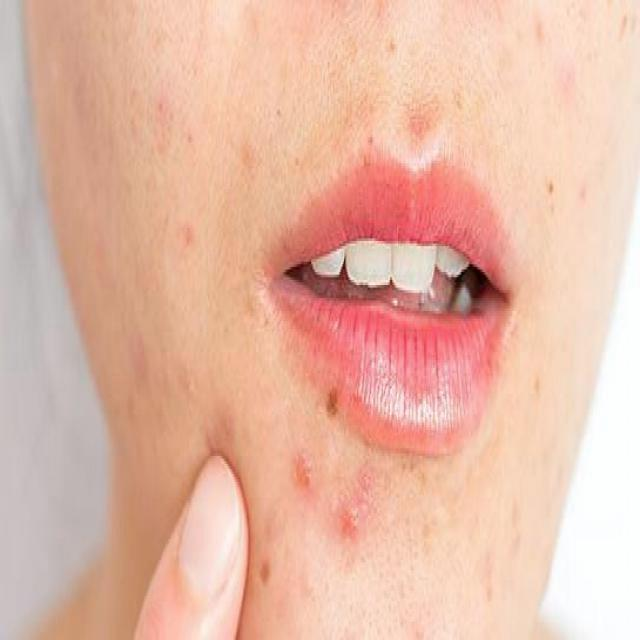Pimples: (340, 495, 360, 547), (292, 448, 312, 492), (325, 381, 341, 420), (540, 174, 554, 202), (533, 13, 546, 42)
